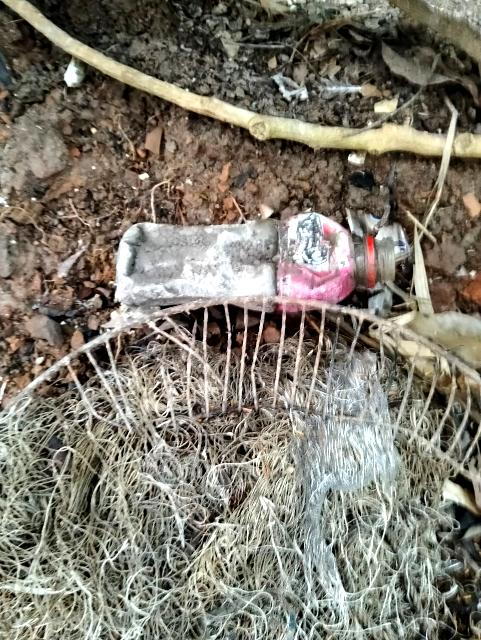bottle: (114, 212, 405, 317)
